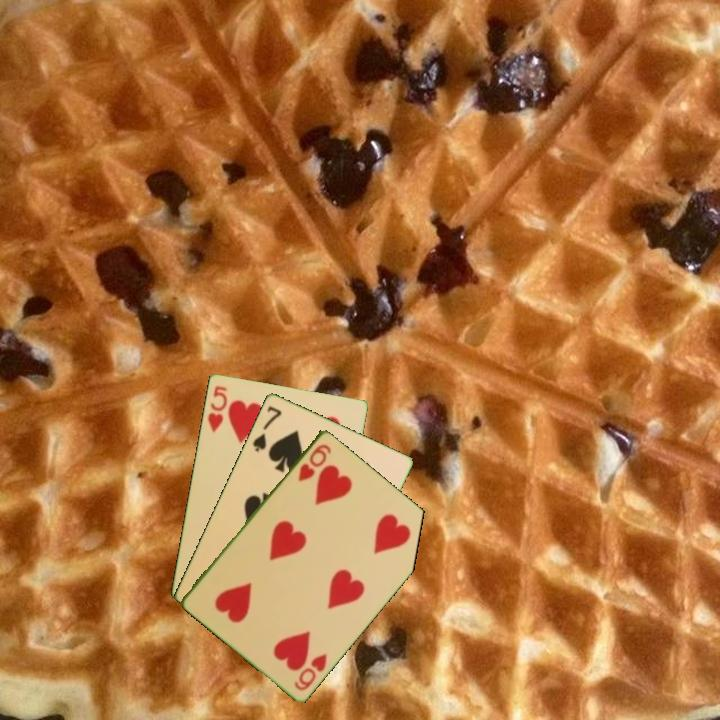5h: (204, 382, 230, 434)
6h: (294, 440, 334, 484), (290, 650, 330, 693)
7s: (249, 402, 284, 454)
